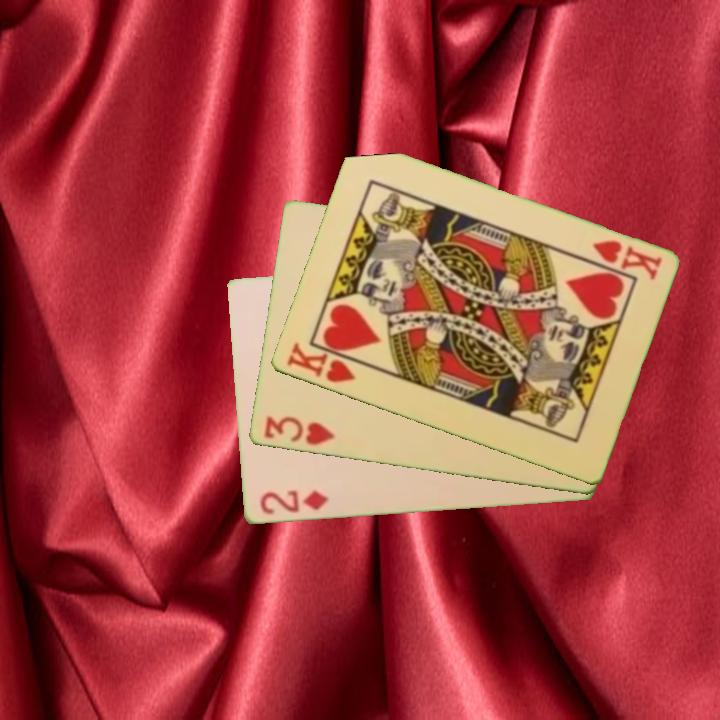2d: (256, 487, 331, 518)
3h: (260, 413, 337, 448)
Kh: (282, 338, 368, 386), (587, 237, 665, 283)
